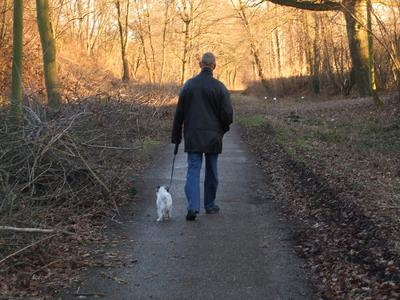person: (171, 53, 233, 221)
